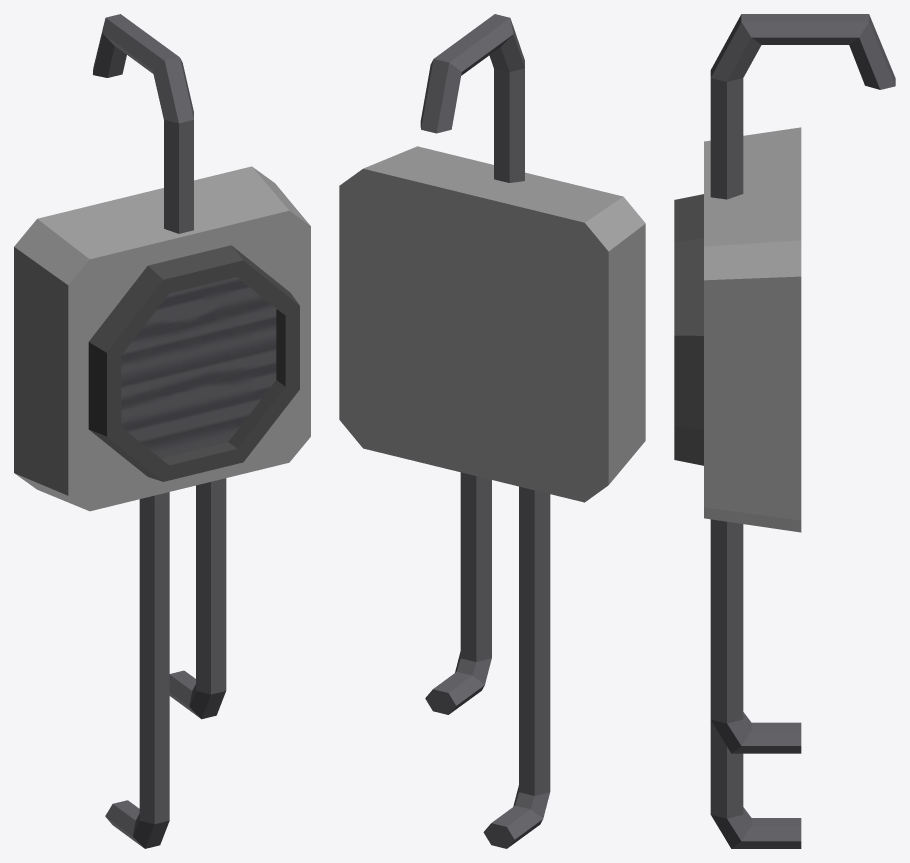
The model's file is city_SM_Prop_WallAttach_Vent_01.gltf.
3 views of the same model, side by side, from view 1: azimuth 30°, elevation 25°; view 2: azimuth 150°, elevation 25°; view 3: azimuth 270°, elevation 25° (orthographic). The views are drawn at different scales.
Parts seen in each view (by area): view 1: SM_Prop_WallAttach_Vent_01; view 2: SM_Prop_WallAttach_Vent_01; view 3: SM_Prop_WallAttach_Vent_01.
Boxes of the visible parts, x1,y1,x2,y2 form: SM_Prop_WallAttach_Vent_01: [14, 14, 310, 848]; SM_Prop_WallAttach_Vent_01: [339, 14, 645, 848]; SM_Prop_WallAttach_Vent_01: [674, 14, 895, 848].
Size of the model in its own units: 0.7767 by 2.21 by 0.5292.
1 material, 1 textured.
